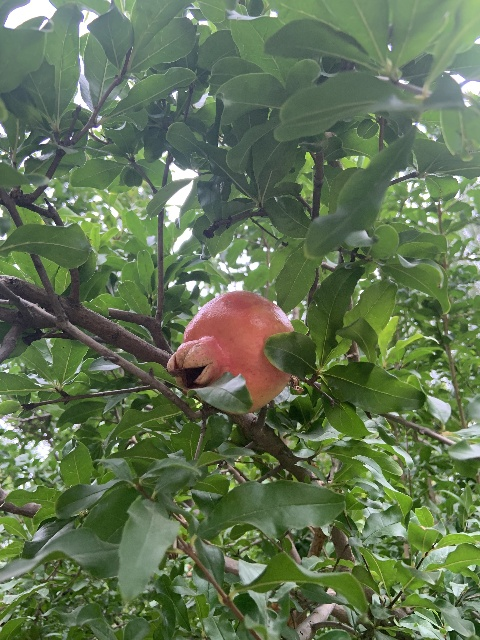ripe: (166, 290, 294, 414)
